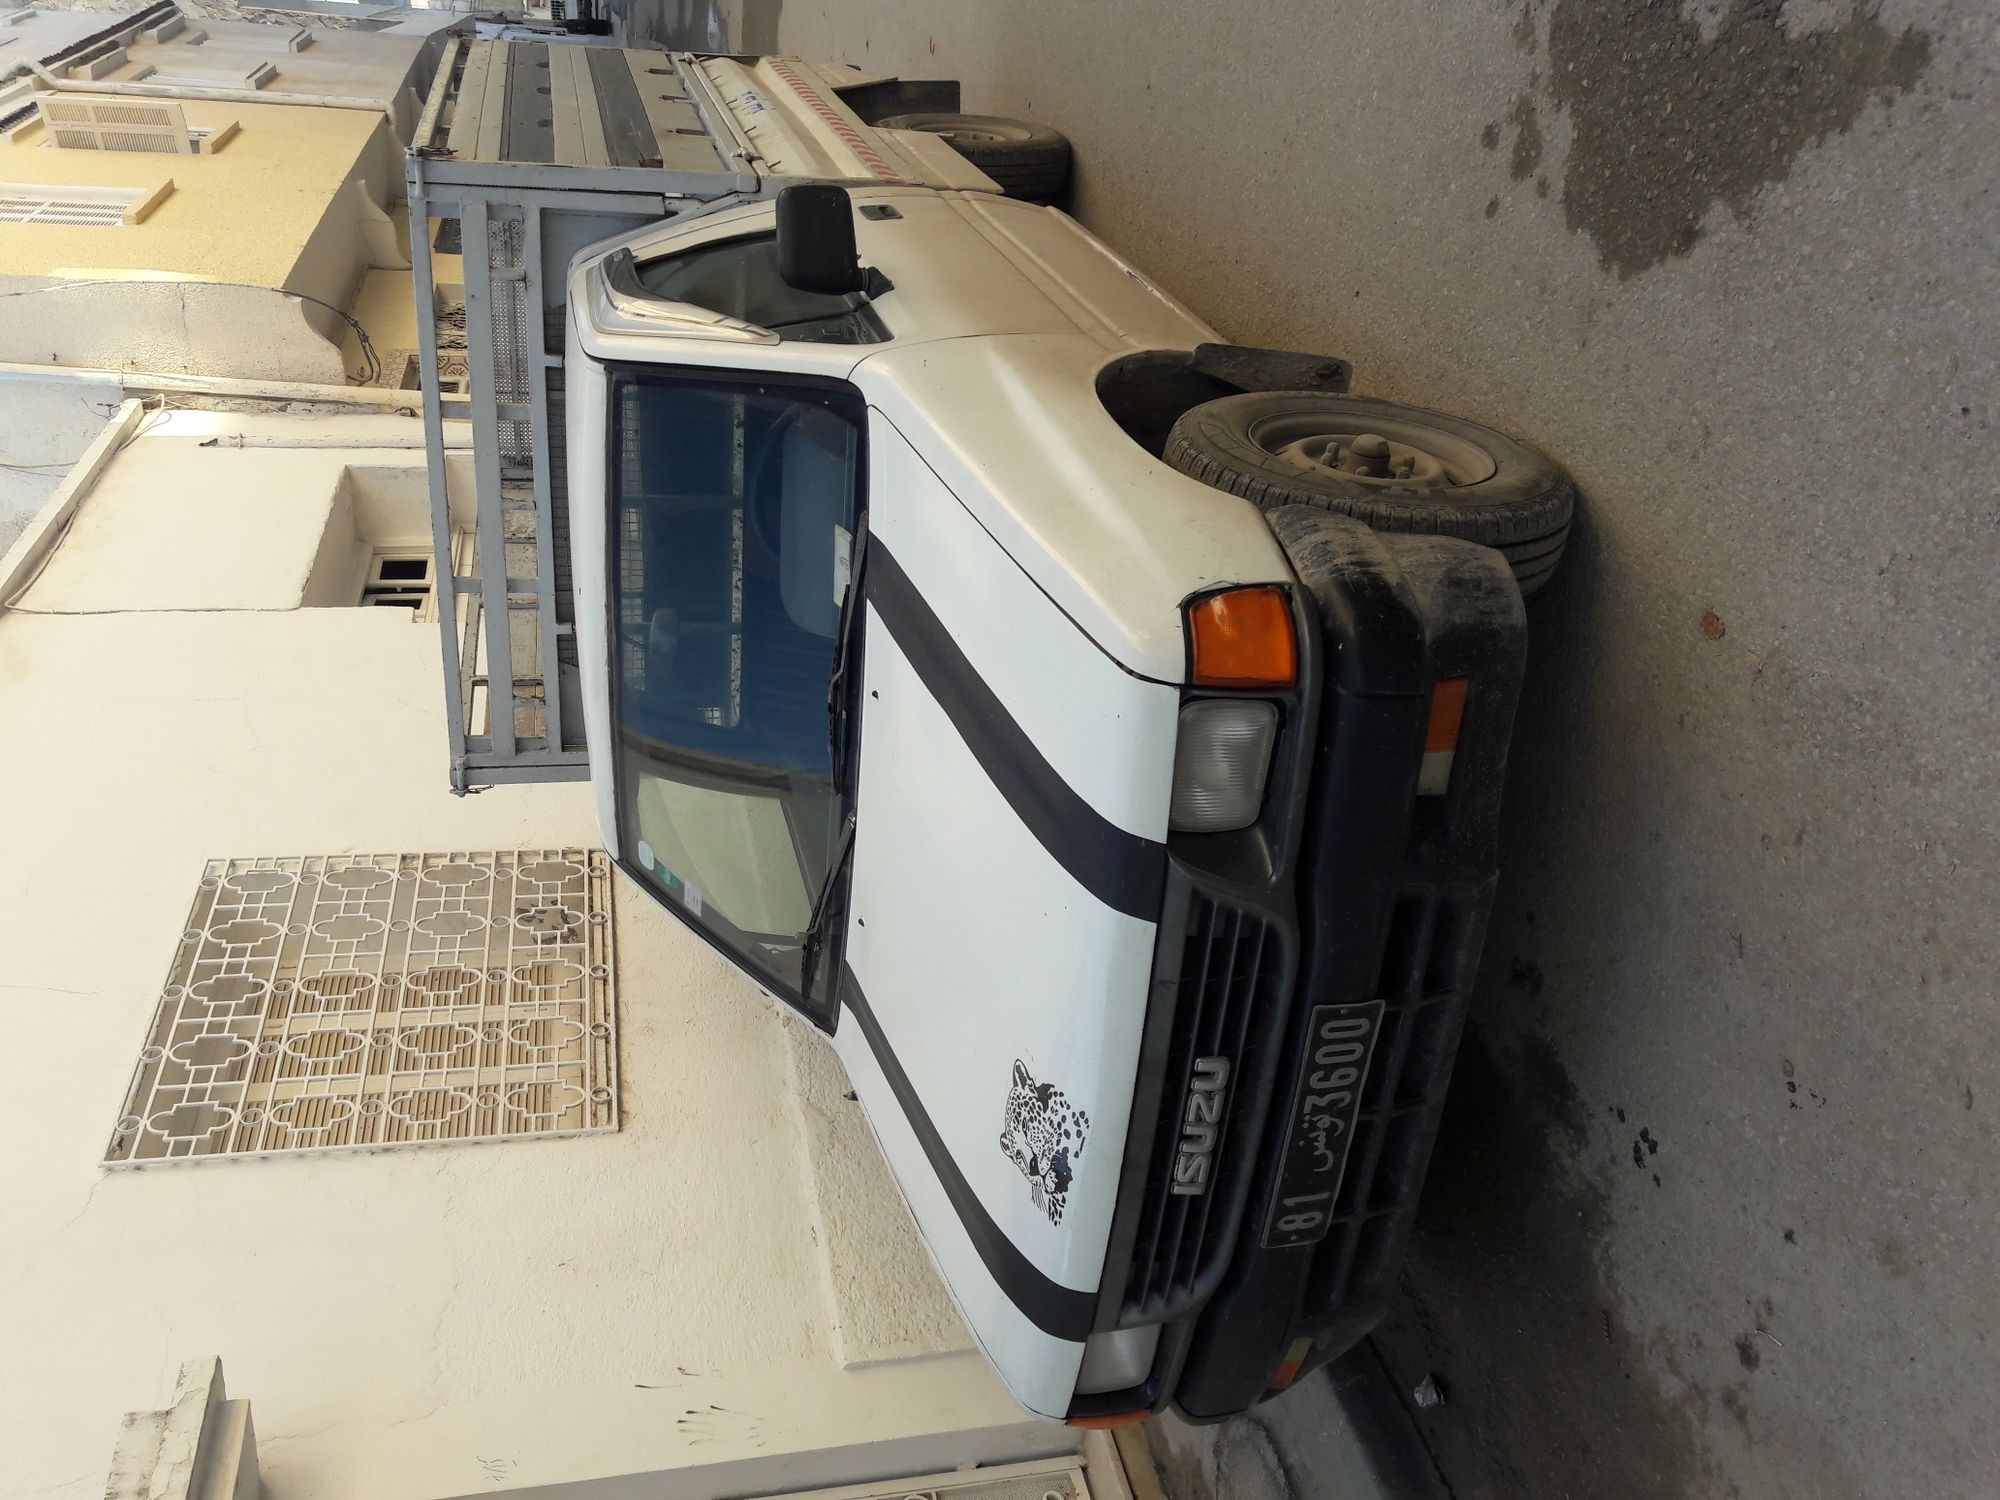LP: (1264, 999, 1383, 1253)
